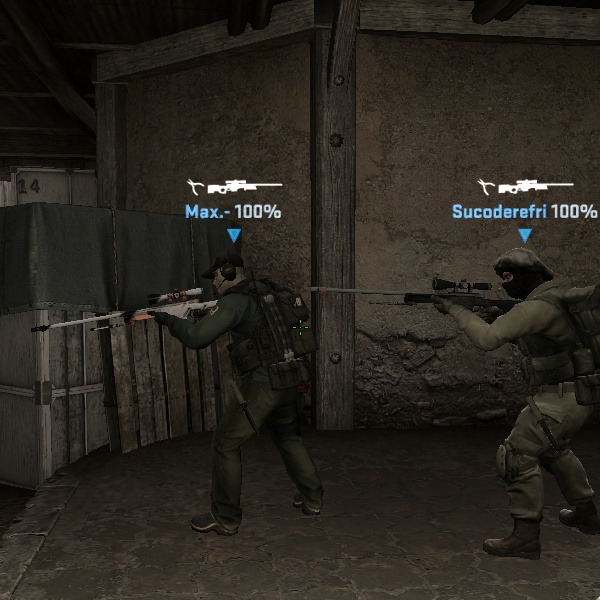ct_body: (176, 255, 331, 534), (473, 218, 593, 569)
ct_head: (491, 244, 551, 300), (203, 250, 251, 296)
